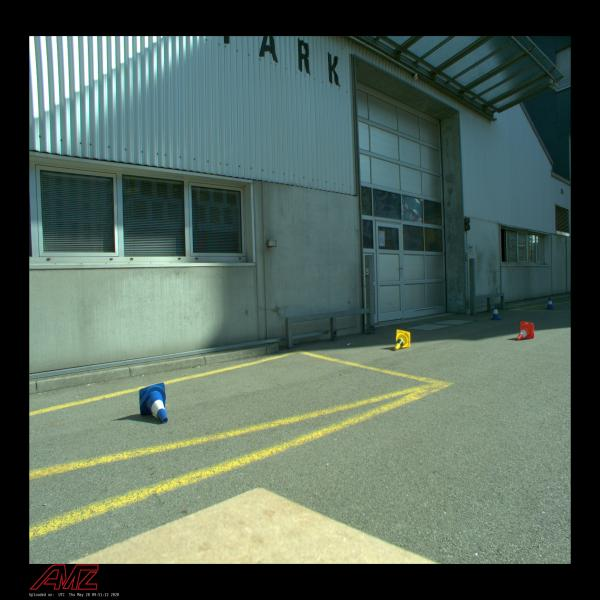blue_cone: (139, 382, 168, 424), (490, 305, 502, 320), (546, 296, 554, 310)
orange_cone: (517, 321, 534, 340)
yellow_cone: (394, 329, 411, 351)
